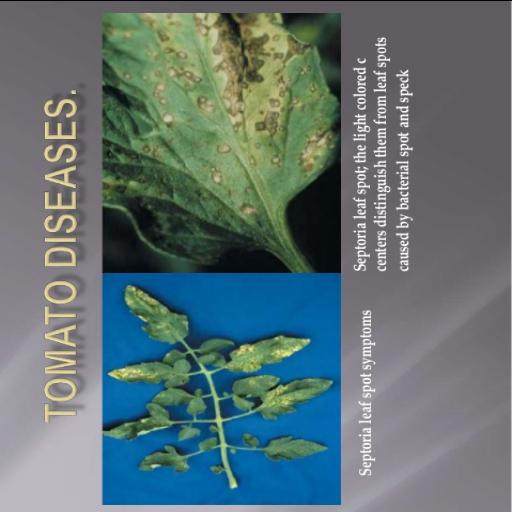disease_tomato: (102, 12, 340, 260), (122, 282, 192, 344), (222, 331, 310, 373), (256, 376, 334, 420), (106, 357, 192, 390)
